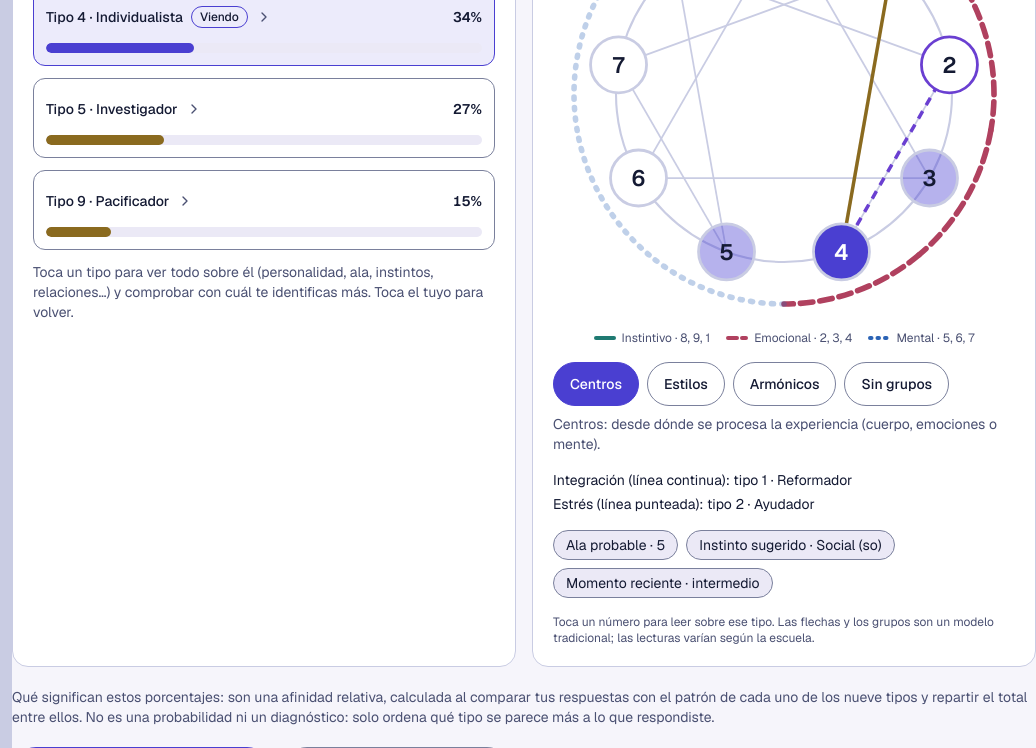
it: actions › overview diagram in the header › lets you switch the grouping (centers, styles, harmonic) right there
The width and height of the screenshot is (1036, 748).
(page scrolled)
Click the button "Estilos". click: point(686, 384)
box: [647,362,725,406]
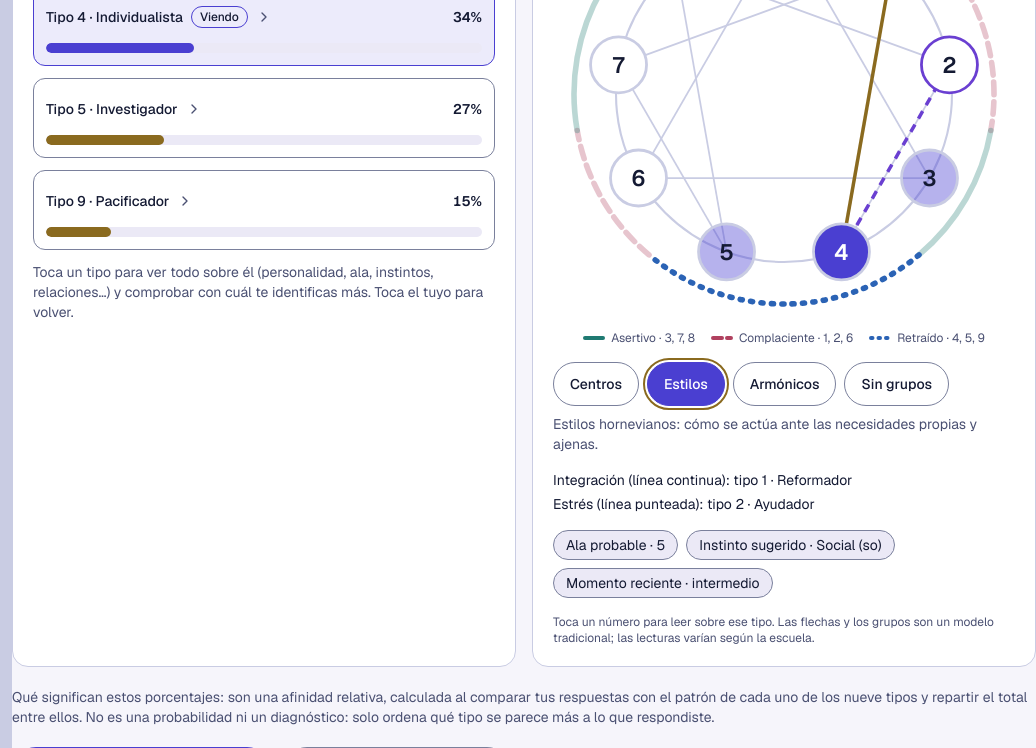
Expected: the list named "leyenda de grupos" shows "Asertivo", [611,330,656,346]
